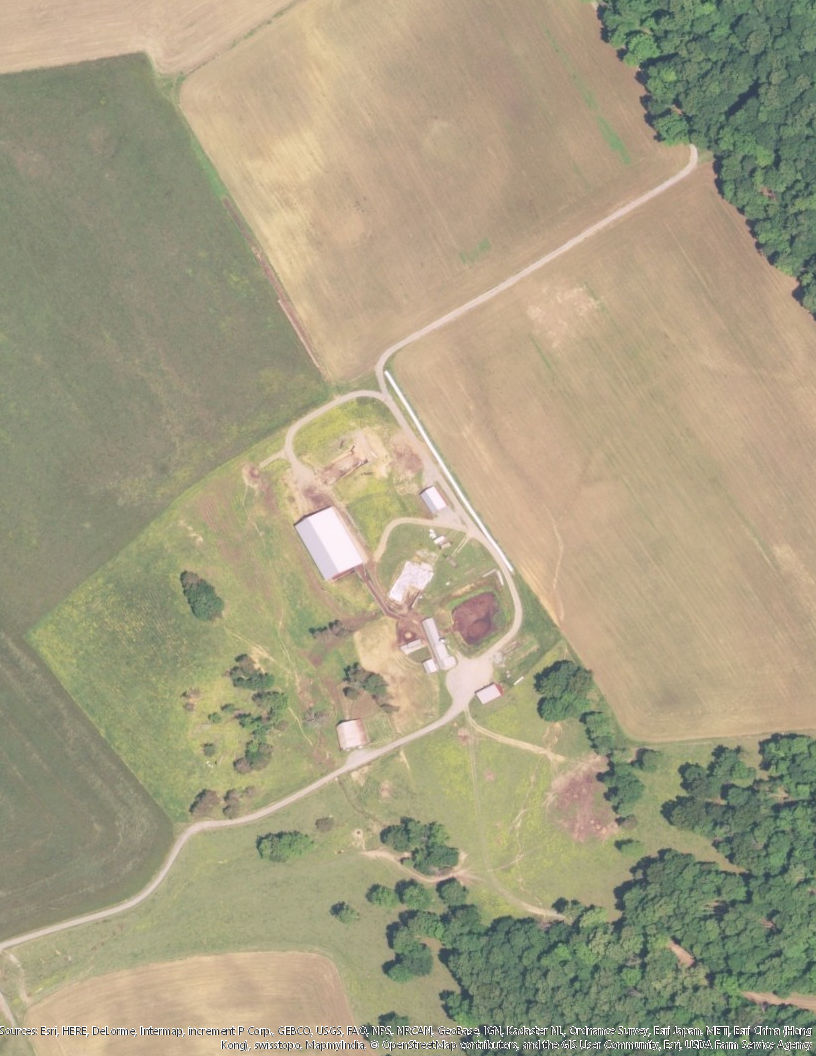cafo: (294, 505, 369, 581), (417, 481, 452, 519)
